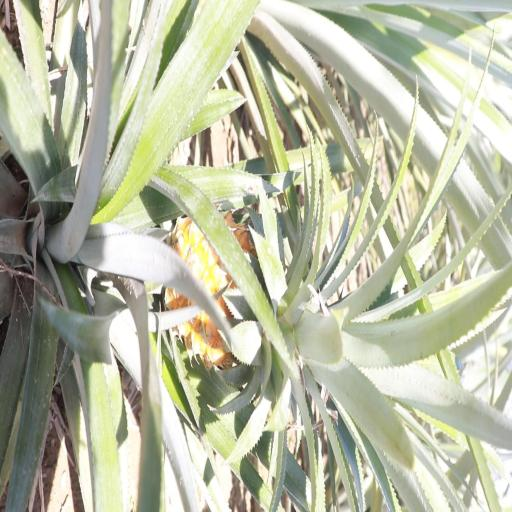Pineapple - v8 v1: (171, 197, 383, 374)
